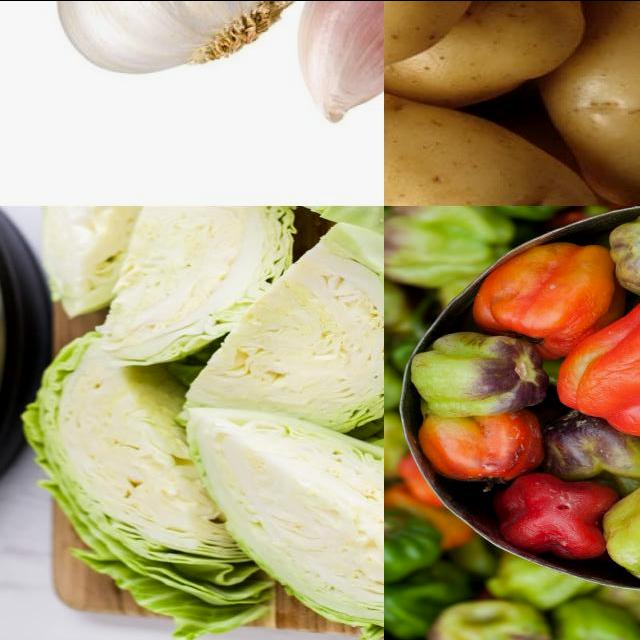bell_pepper: (463, 236, 623, 337), (546, 292, 640, 444), (414, 321, 542, 417), (483, 472, 609, 566), (419, 391, 543, 485), (601, 480, 640, 588), (599, 213, 640, 295)
cabbage: (18, 327, 271, 640), (184, 402, 385, 637), (175, 220, 385, 428), (91, 206, 302, 370), (34, 206, 180, 321)
garlic: (40, 1, 337, 75), (295, 1, 385, 121)
potato: (385, 87, 617, 206), (544, 1, 640, 206)
